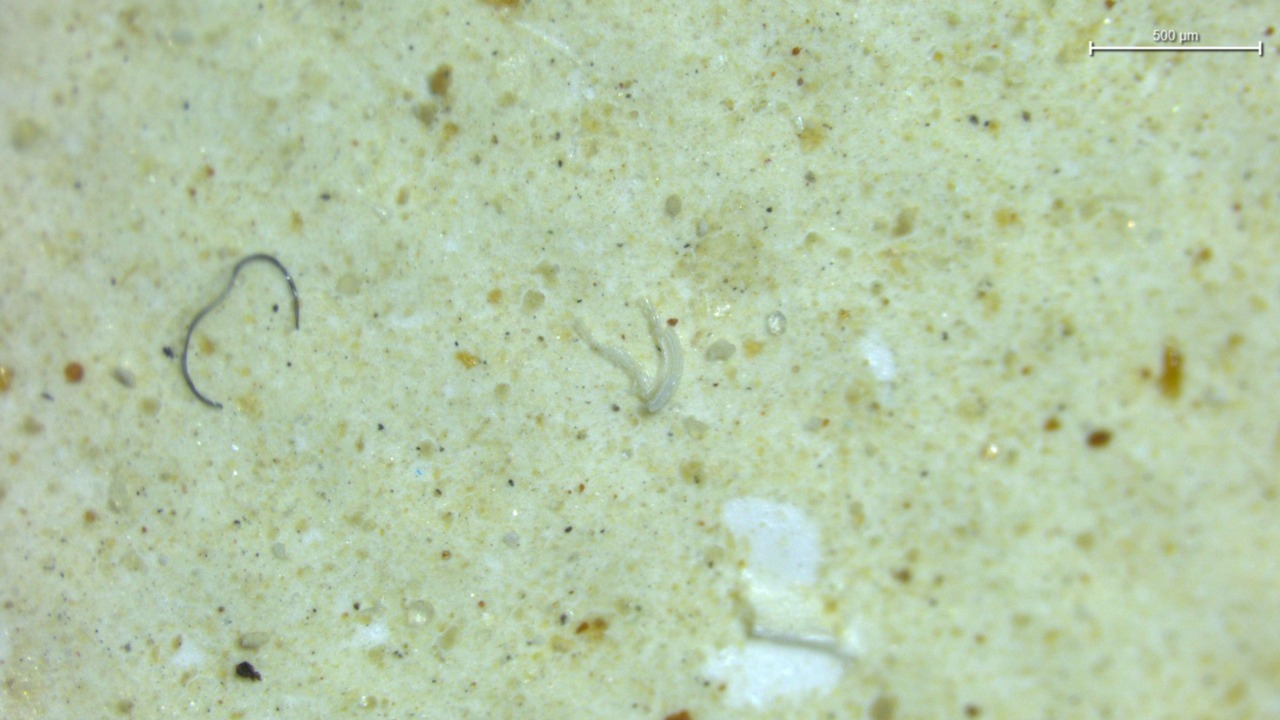microplastic_fragment: (574, 299, 683, 412)
